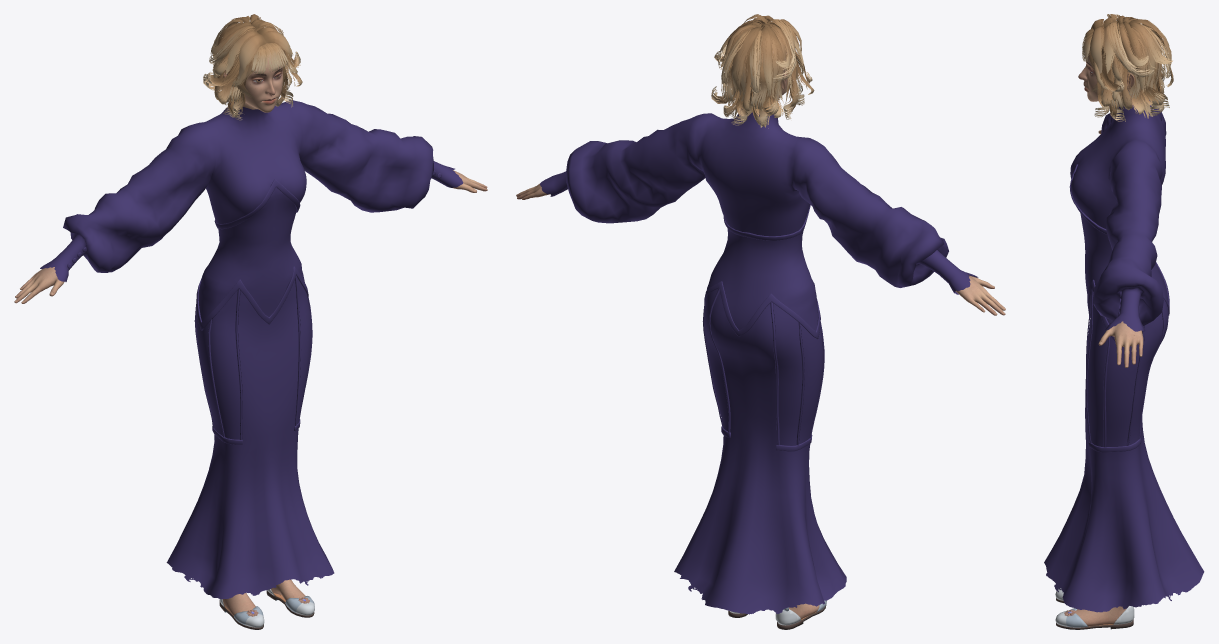
File: Ruby.fbx
3 renders of one model, left to right at view 1: azimuth 30°, elevation 25°; view 2: azimuth 150°, elevation 25°; view 3: azimuth 270°, elevation 25°, orthographic. The views are drawn at different scales.
Visible parts, largest first — view 1: Ruby_body; view 2: Ruby_body; view 3: Ruby_body.
Boxes of the visible parts, box(x1,y1,x2,y2) form: Ruby_body: box(14, 14, 487, 629); Ruby_body: box(516, 14, 1005, 629); Ruby_body: box(1044, 14, 1204, 629).
Bounding box in the file's own units: 151 × 177 × 45.87.
